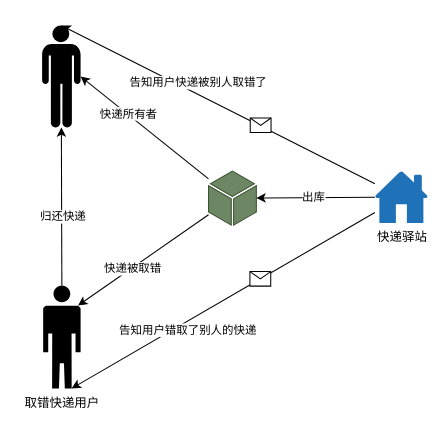
This 446x428 diagram has some shape labels left out. Here are the shapes that lost their labels. From the top down, the box of each, then its label:
(42, 25, 80, 127): 被取错快递用户
(207, 170, 256, 225): 快递
